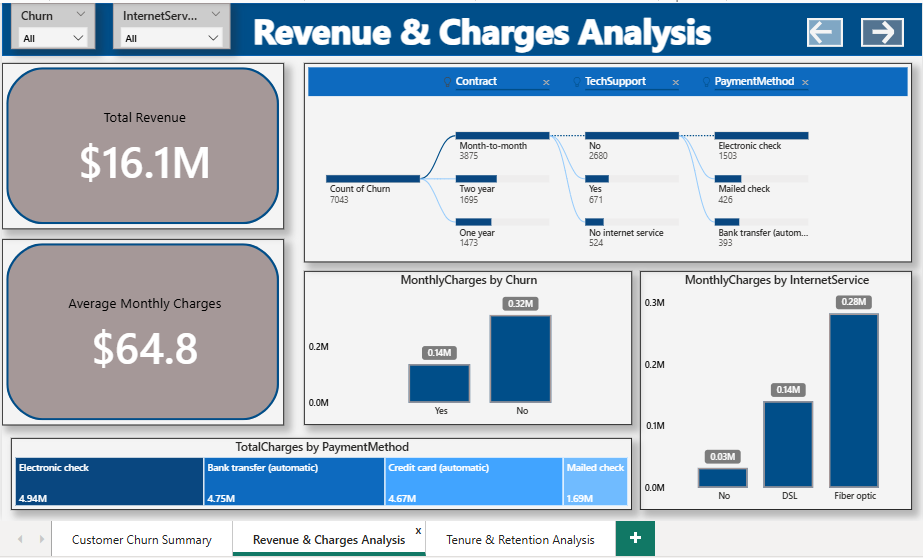

This screenshot's page, from the dashboard's own definition file:
{"tool":"powerbi","page":{"name":"Revenue & Charges Analysis","canvas":[1280,720],"ordinal":1},"visuals":[{"type":"shape","box":[0,0,1280.2,73.7],"z":0},{"type":"textbox","box":[165.4,0,1003.6,83.4],"z":1},{"type":"cardVisual","fields":{"Data":["WA_Fn-UseC_-Telco-Customer-Churn.Total Revenue"]},"box":[0,83.4,392,230.7],"z":2},{"type":"treemap","title":"TotalCharges by PaymentMethod","fields":{"Group":["WA_Fn-UseC_-Telco-Customer-Churn.PaymentMethod"],"Values":["Sum(WA_Fn-UseC_-Telco-Customer-Churn.TotalCharges)"]},"box":[12.5,604.6,863.2,100.1],"z":3},{"type":"columnChart","title":"MonthlyCharges by InternetService","fields":{"Category":["WA_Fn-UseC_-Telco-Customer-Churn.InternetService"],"Y":["Sum(WA_Fn-UseC_-Telco-Customer-Churn.MonthlyCharges)"]},"box":[886.8,372.5,378.1,332.2],"z":4},{"type":"columnChart","title":" MonthlyCharges by Churn","fields":{"Y":["Sum(WA_Fn-UseC_-Telco-Customer-Churn.MonthlyCharges)"],"Category":["WA_Fn-UseC_-Telco-Customer-Churn.Churn"]},"box":[419.8,372.5,455.9,214.1],"z":5},{"type":"decompositionTreeVisual","fields":{"Analyze":["CountNonNull(WA_Fn-UseC_-Telco-Customer-Churn.Churn)"],"ExplainBy":["WA_Fn-UseC_-Telco-Customer-Churn.Contract","WA_Fn-UseC_-Telco-Customer-Churn.TechSupport","WA_Fn-UseC_-Telco-Customer-Churn.PaymentMethod"]},"box":[419.8,83.4,845.1,276.6],"z":6},{"type":"cardVisual","fields":{"Data":["WA_Fn-UseC_-Telco-Customer-Churn.Avg Monthly Charges"]},"box":[0,328,392,258.5],"z":7},{"type":"slicer","fields":{"Values":["WA_Fn-UseC_-Telco-Customer-Churn.Churn"]},"box":[12.5,0,116.8,63.9],"z":8},{"type":"slicer","fields":{"Values":["WA_Fn-UseC_-Telco-Customer-Churn.InternetService"]},"box":[154.3,0,162.6,63.9],"z":9},{"type":"actionButton","box":[1194,20.8,59.8,40.3],"z":10},{"type":"actionButton","box":[1118.9,20.8,50,40.3],"z":12}]}

Visuals, with their boxes in screenshot pixels (x1, y1, x2, y2):
shape: 5/0/915/52
textbox: 122/0/836/59
cardVisual - WA_Fn-UseC_-Telco-Customer-Churn.Total Revenue: 5/59/284/223
"TotalCharges by PaymentMethod" treemap: 14/430/628/501
"MonthlyCharges by InternetService" columnChart: 635/265/904/501
" MonthlyCharges by Churn" columnChart: 303/265/628/417
decompositionTreeVisual - CountNonNull(WA_Fn-UseC_-Telco-Customer-Churn.Churn) x WA_Fn-UseC_-Telco-Customer-Churn.Contract: 303/59/904/256
cardVisual - WA_Fn-UseC_-Telco-Customer-Churn.Avg Monthly Charges: 5/233/284/417
slicer - WA_Fn-UseC_-Telco-Customer-Churn.Churn: 14/0/97/45
slicer - WA_Fn-UseC_-Telco-Customer-Churn.InternetService: 115/0/230/45
actionButton: 854/15/896/43
actionButton: 800/15/836/43
